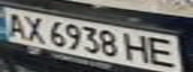3: (78, 25, 100, 55)
6: (42, 18, 66, 48)
8: (96, 28, 121, 58)
9: (60, 21, 81, 52)
A: (3, 10, 30, 39)
E: (145, 35, 184, 69)
H: (124, 31, 154, 64)
X: (21, 14, 48, 44)
